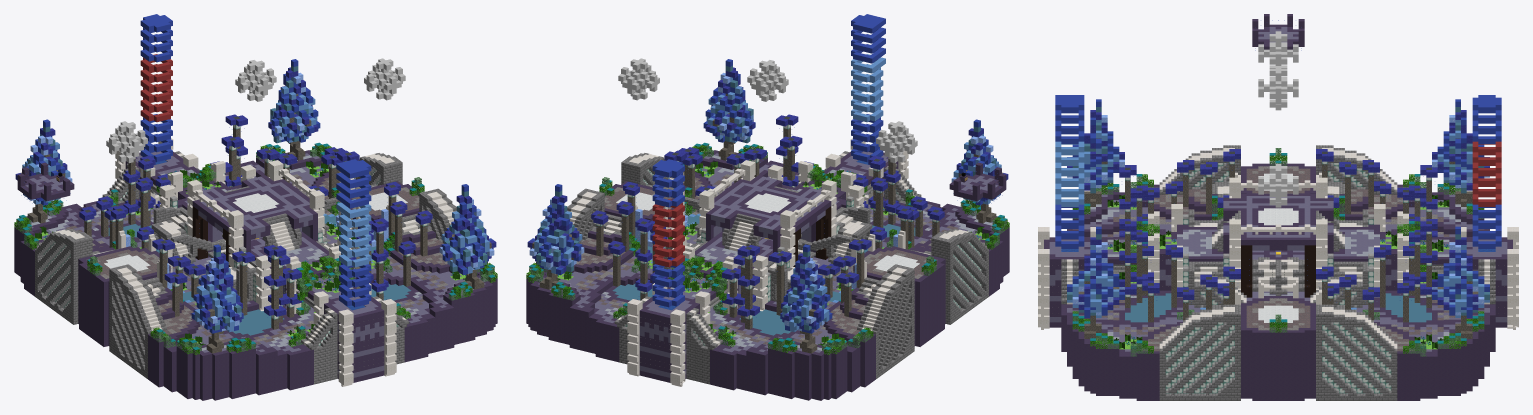
The model's file is minecraft.obj.
3 renders of one model, left to right at view 1: azimuth 30°, elevation 25°; view 2: azimuth 150°, elevation 25°; view 3: azimuth 270°, elevation 25°, orthographic. The views are drawn at different scales.
Bounding box in the file's own units: 83 × 47 × 83.
